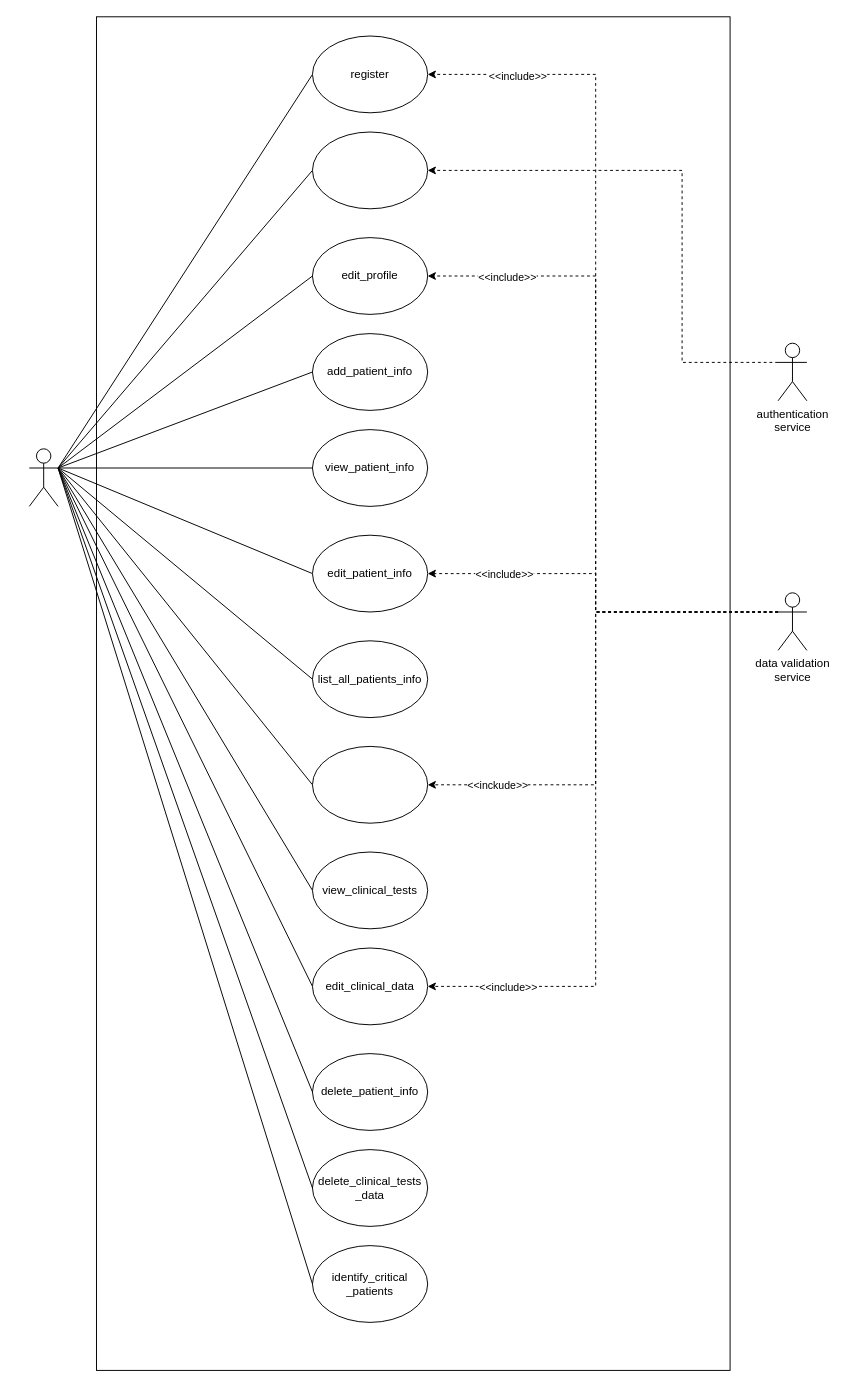
Image size: 846x1387. Some labels were removed from this diagram. The shapes that lost their labels are listed below. From the top down, each one's box as (x1, y1, x2, y2) in pixels, then its label:
(312, 131, 428, 209): login
(28, 448, 58, 506): healthcare provider
(312, 745, 428, 823): add_clinical_tests
